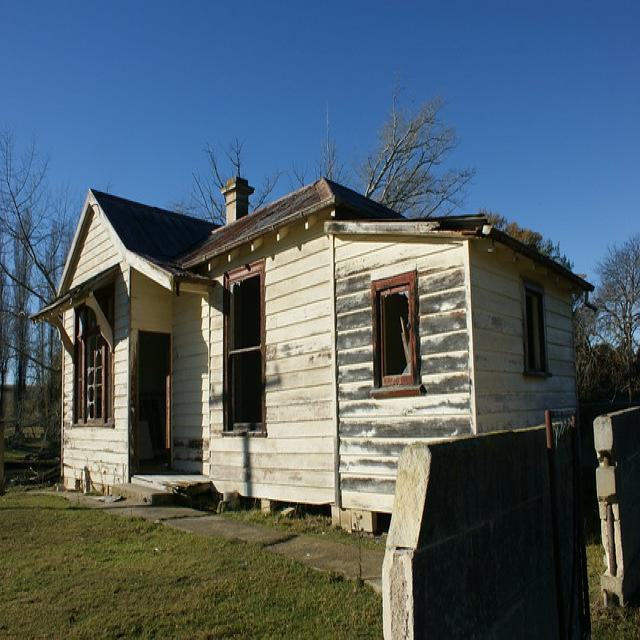building: (29, 169, 594, 546)
